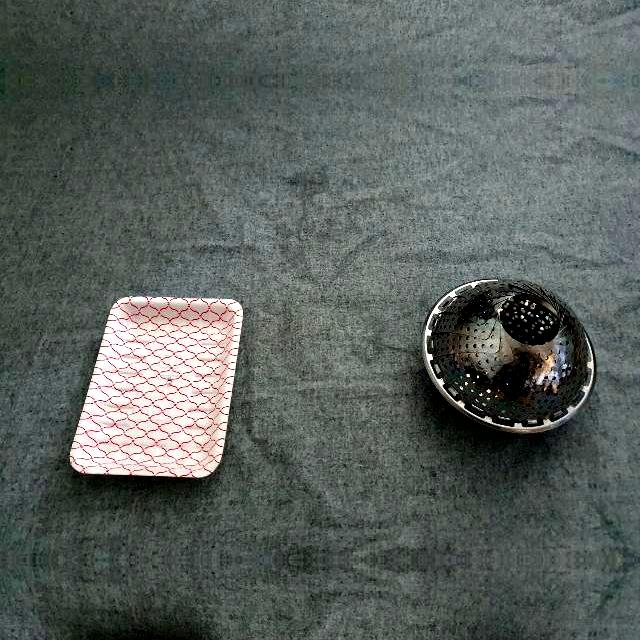Styrofoam: (68, 294, 242, 480), (69, 296, 243, 478)
